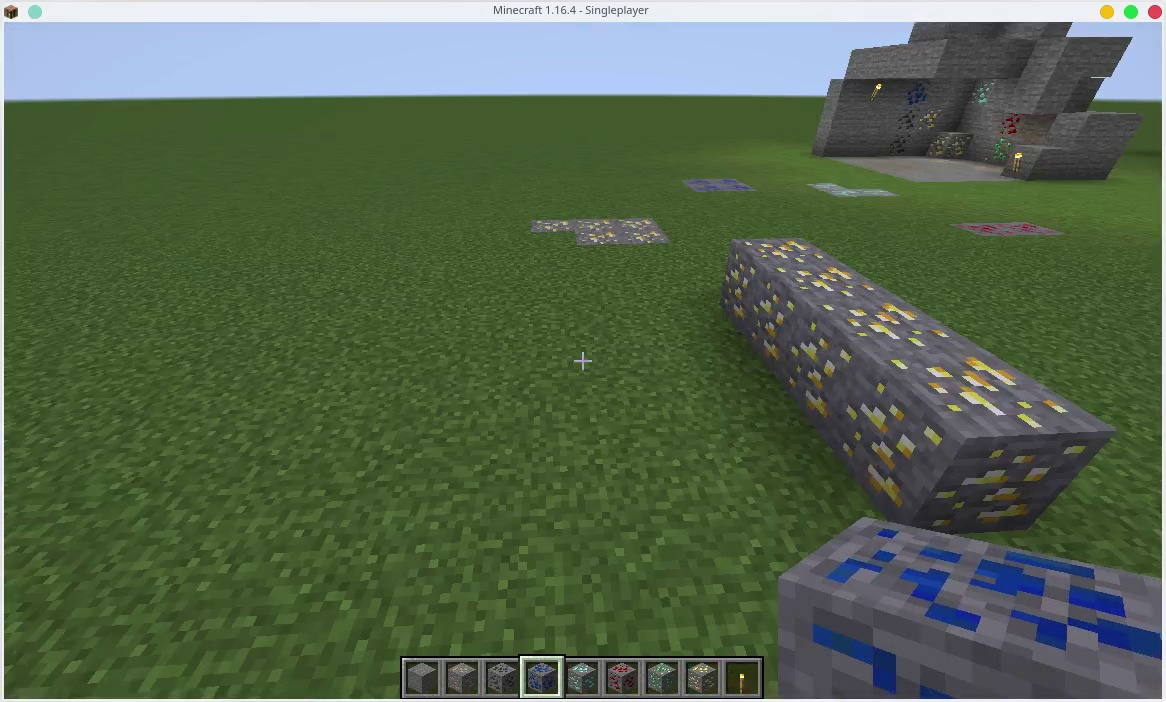gold: (873, 367, 1075, 536), (787, 319, 867, 426), (838, 301, 941, 359), (783, 266, 866, 310), (542, 216, 669, 243), (743, 293, 793, 358), (757, 233, 815, 271), (725, 260, 762, 318), (933, 133, 971, 161), (685, 664, 717, 695), (921, 107, 938, 133)
